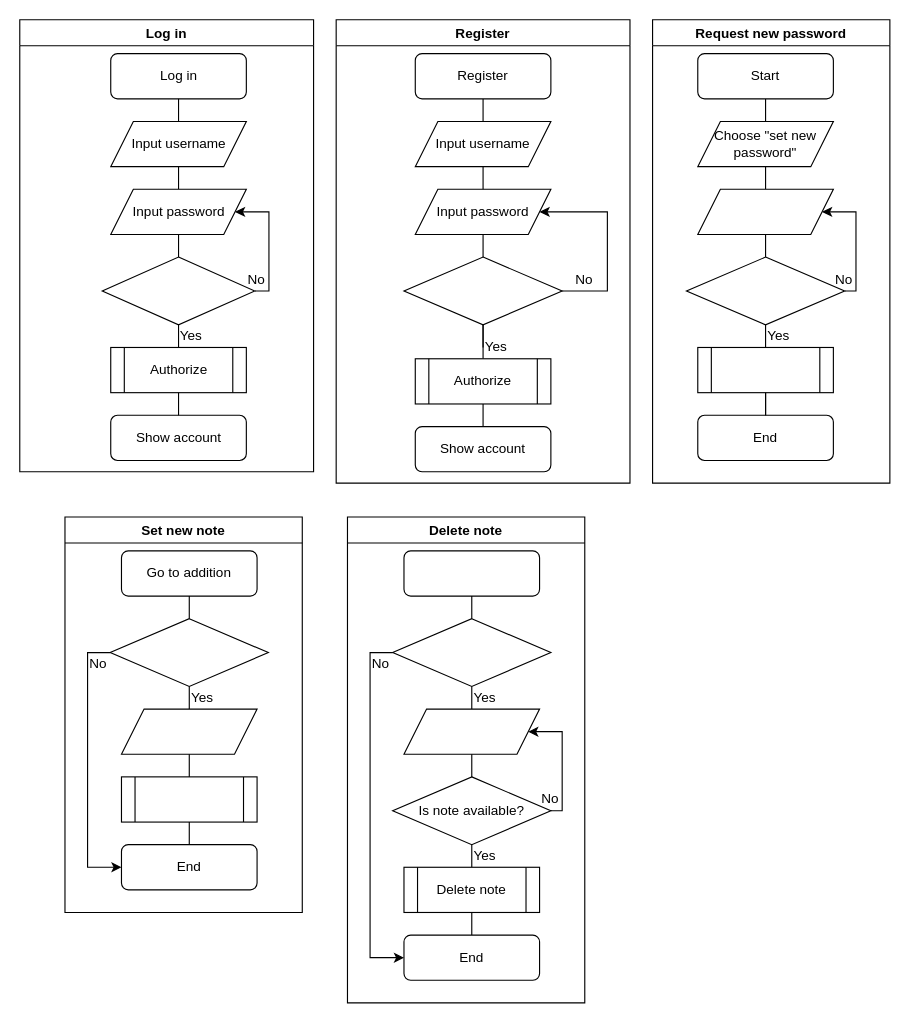
Some shapes in this 910 by 1023 pixel diagram are drawn without their labels. The centre of each missing label's shape, as x and y in pixels:
Choose note: (471,731)
Do you want to add a note ?: (188,652)
Enter new password: (765,211)
Go to delete: (471,573)
Is password correct?: (178,290)
Is satisfies the requirements?: (482,290)
Note exists: (471,652)
Password changed: (765,369)
Password requirements satisfied ?: (765,290)
Select the required options: (188,731)
Set note: (188,799)
